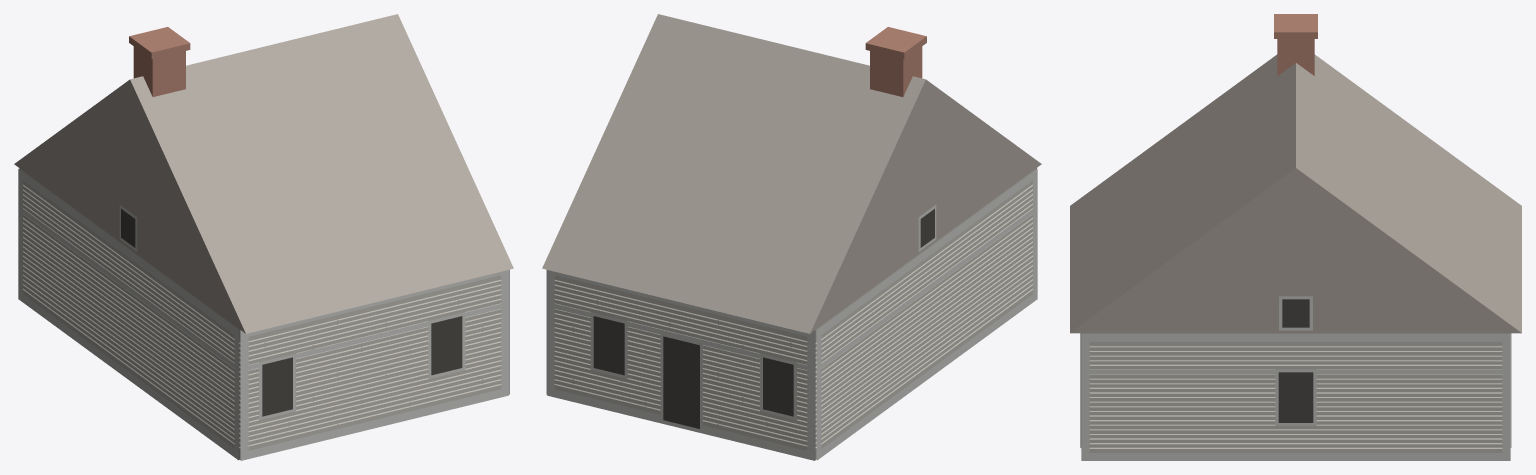
The model's file is recon_1835_blk_south_water_lasalle_d6_11__inferred_1835.glb.
3 views of the same model, side by side, from view 1: azimuth 30°, elevation 25°; view 2: azimuth 150°, elevation 25°; view 3: azimuth 270°, elevation 25° (orthographic). The views are drawn at different scales.
Parts seen in each view (by area): view 1: recon_1835_blk_south_water_lasalle_d6_11__inferred_1835; view 2: recon_1835_blk_south_water_lasalle_d6_11__inferred_1835; view 3: recon_1835_blk_south_water_lasalle_d6_11__inferred_1835.
Boxes of the visible parts, left/top/right/bottom form: recon_1835_blk_south_water_lasalle_d6_11__inferred_1835: left=14, top=14, right=513, bottom=460; recon_1835_blk_south_water_lasalle_d6_11__inferred_1835: left=542, top=14, right=1041, bottom=460; recon_1835_blk_south_water_lasalle_d6_11__inferred_1835: left=1070, top=14, right=1521, bottom=460.
Size of the model in its own units: 6.85 by 8.02 by 10.13.
